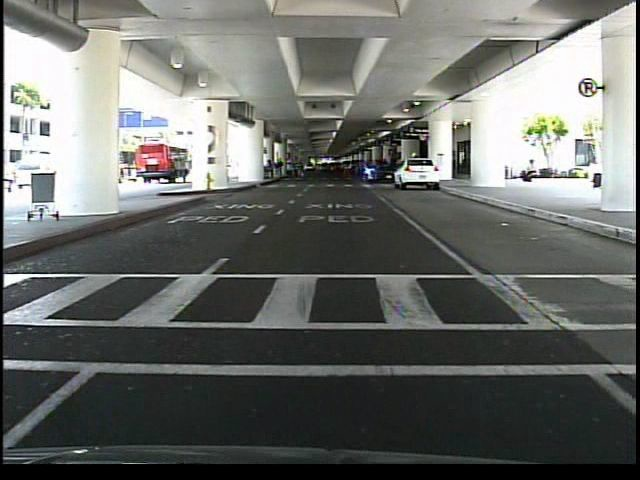person: (515, 156, 541, 190)
